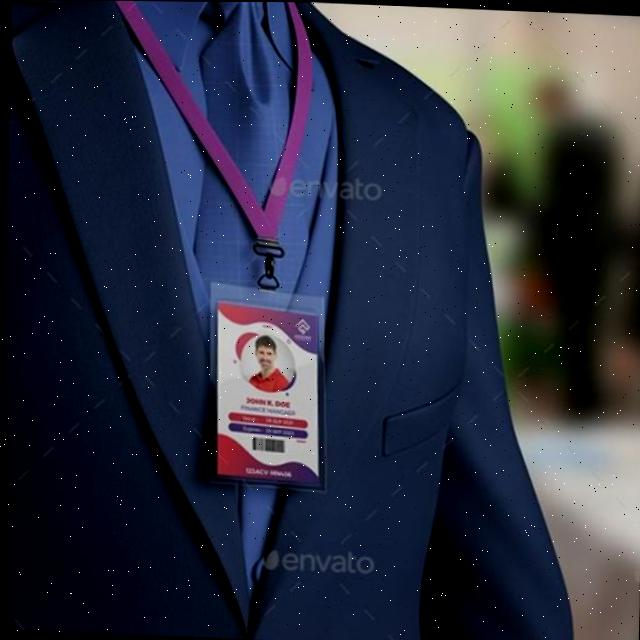id_card: (100, 1, 362, 495)
